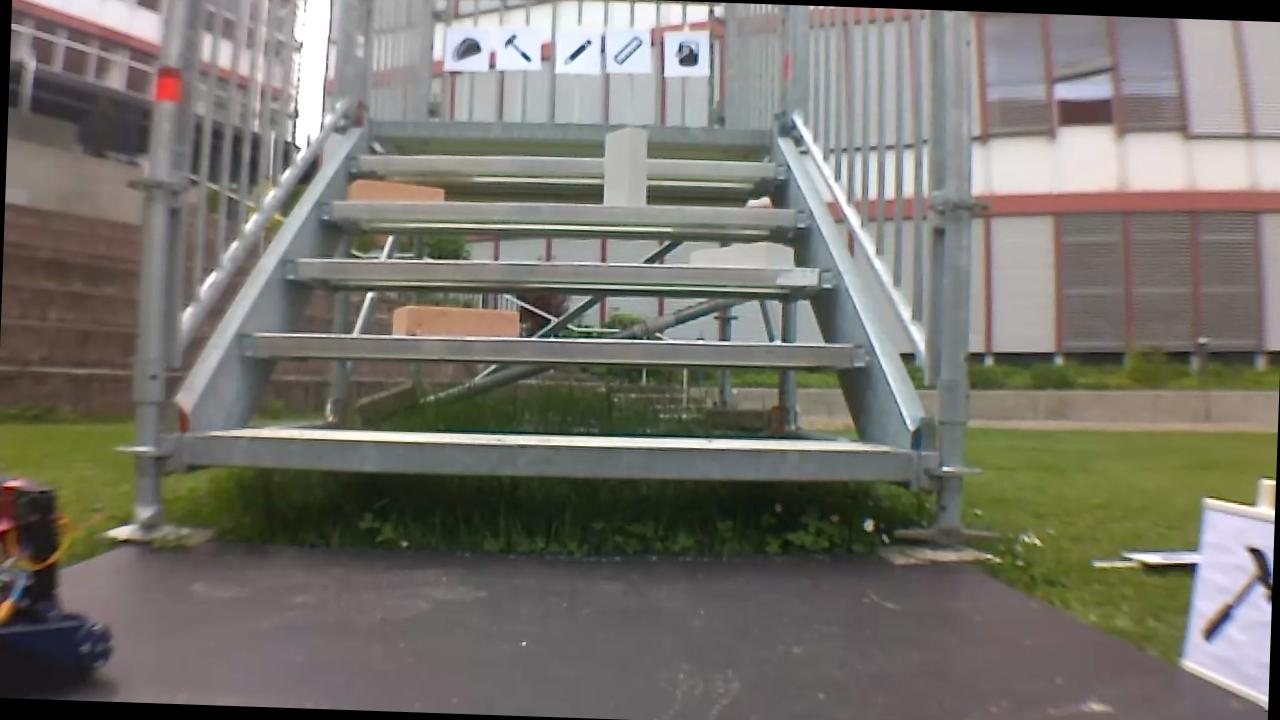brick: (393, 304, 517, 338), (604, 126, 648, 206), (690, 238, 792, 269), (342, 178, 443, 203)
bucket: (668, 33, 703, 72)
edge: (185, 423, 914, 489), (241, 324, 873, 372), (278, 248, 833, 291), (320, 191, 810, 229), (346, 146, 787, 184), (370, 113, 771, 146)
hammer: (1195, 534, 1274, 659), (500, 33, 536, 65)
pencil: (559, 33, 595, 70)
ruler: (609, 33, 643, 67)
steps: (177, 100, 936, 499)
taco: (448, 30, 484, 66)
